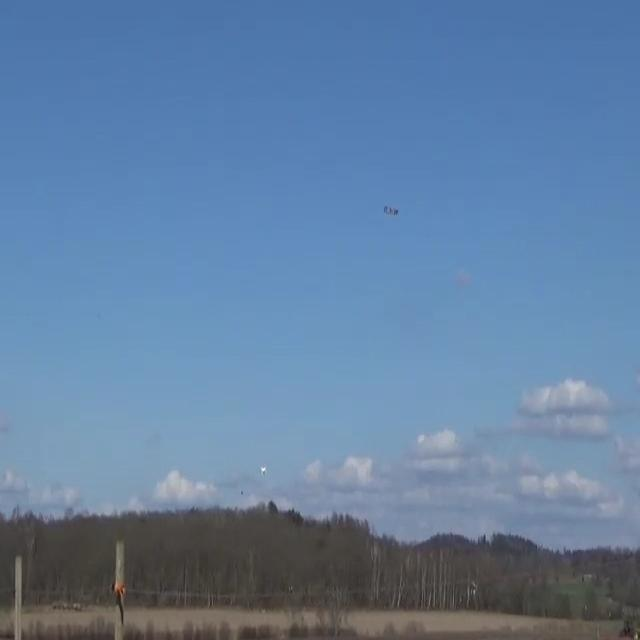drone: (383, 204, 398, 216), (258, 466, 268, 476)
